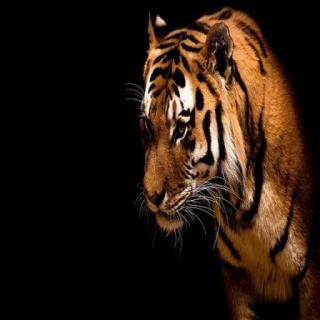Tiger: (131, 0, 319, 320)
